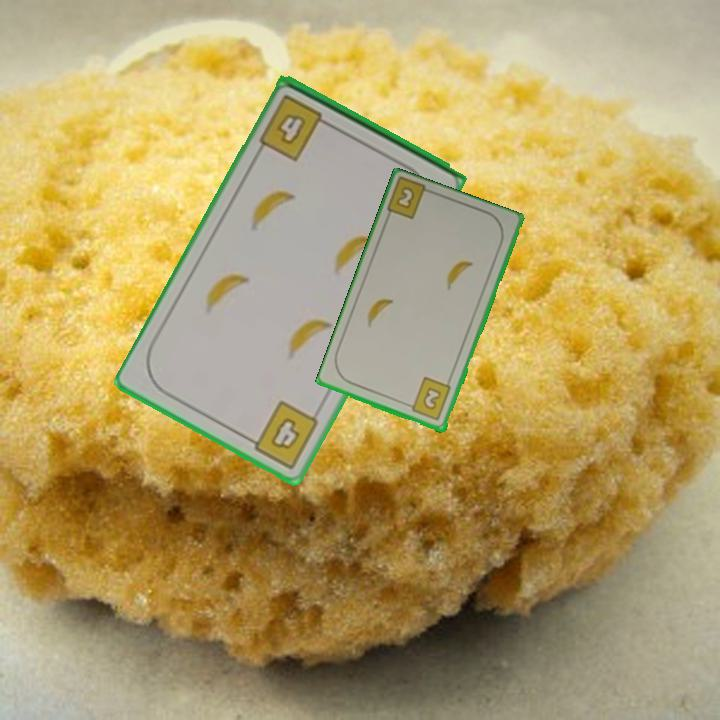2b: (403, 374, 454, 424), (392, 183, 418, 212)
4b: (242, 397, 322, 472), (255, 91, 336, 165)
